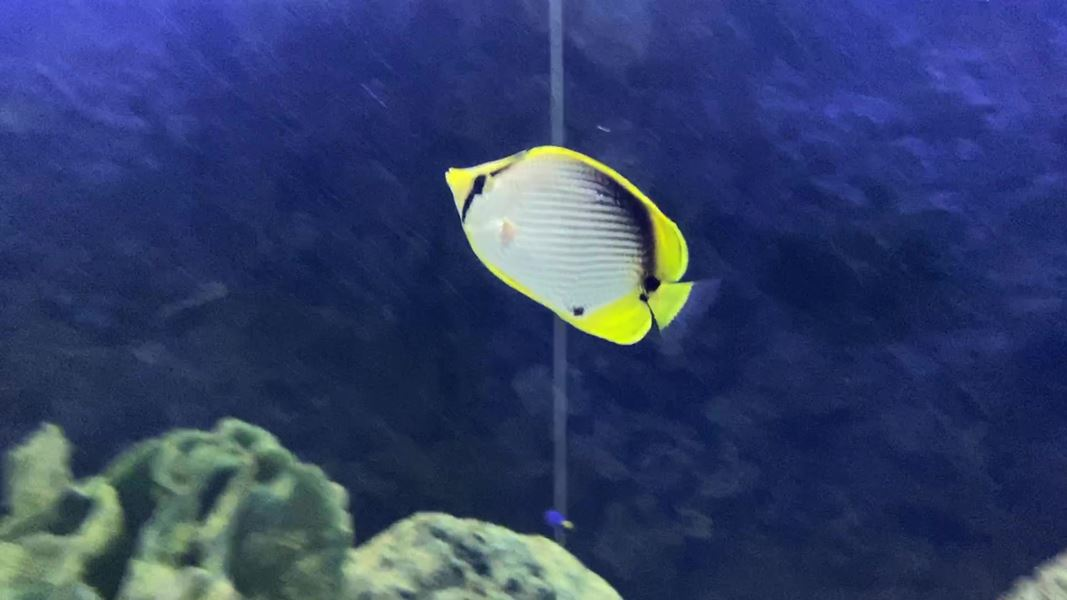Black-backed butterflyfish: (435, 136, 736, 368)
